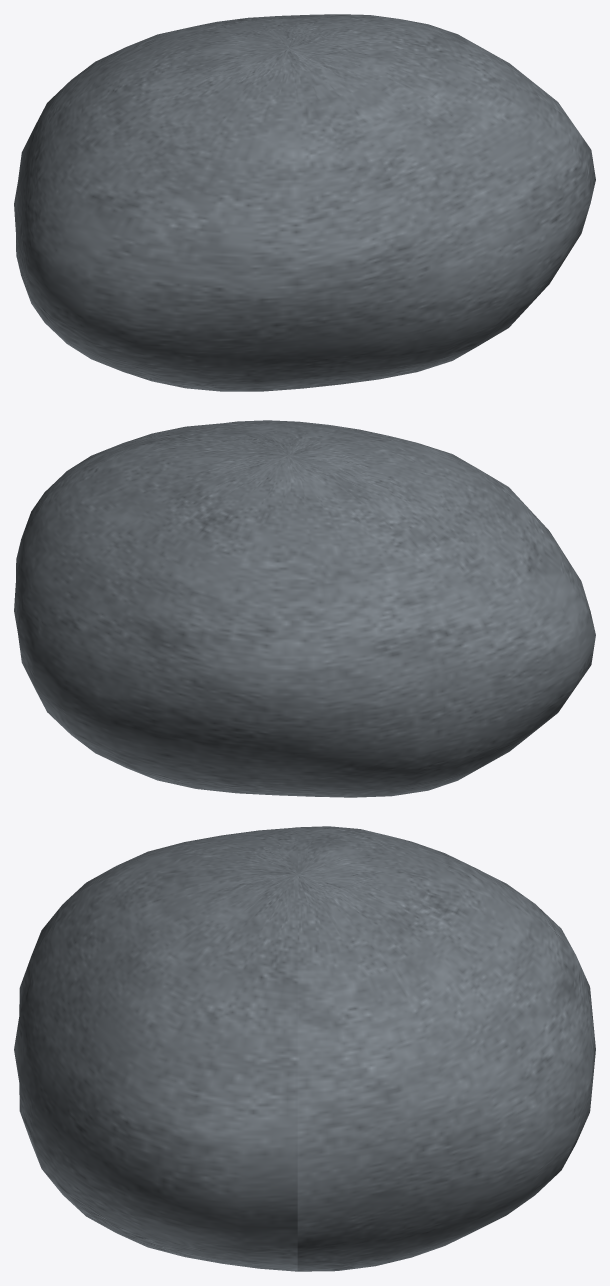
File: guti_pebble_dark.glb
The picture shows the model from 3 angles, top to bottom: view 1: azimuth 30°, elevation 25°; view 2: azimuth 150°, elevation 25°; view 3: azimuth 270°, elevation 25°; orthographic projection. The views are drawn at different scales.
Visible parts, largest first — view 1: guti_pebble_dark; view 2: guti_pebble_dark; view 3: guti_pebble_dark.
Boxes of the visible parts, x1,y1,x2,y2 form: guti_pebble_dark: (14,14,595,391); guti_pebble_dark: (14,420,595,797); guti_pebble_dark: (14,826,595,1271).
Size of the model in its own units: 0.025 by 0.012 by 0.021.
Materials: 1 (1 with a texture image).
